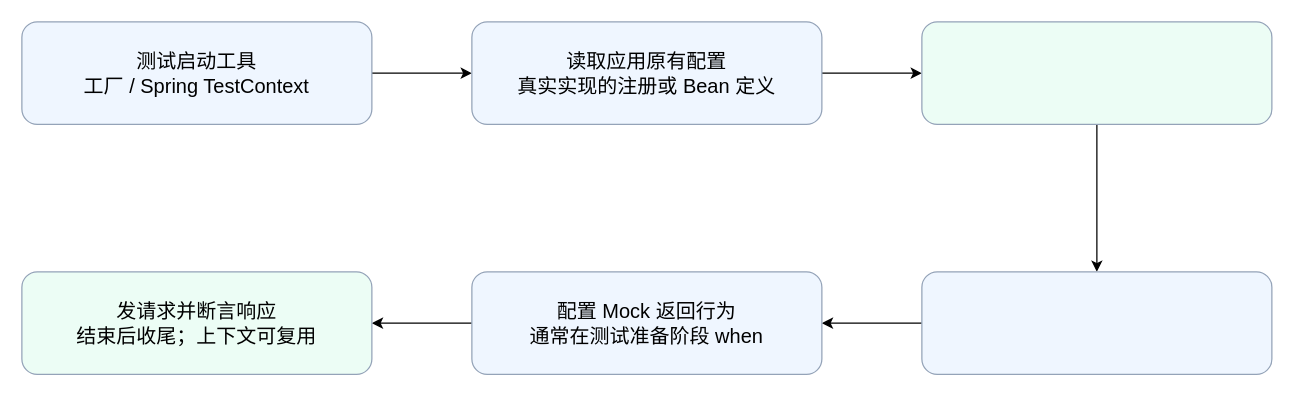
The diagram is 1294 pixels wide and 396 high, and some of its shapes have lost their labels. Each missing label, with the centre of its shape:
"准备容器与业务对象 注入的已是测试替身" belongs at (x=1096, y=322).
"测试扩展点介入 移除并添加 / Bean override" belongs at (x=1096, y=72).
